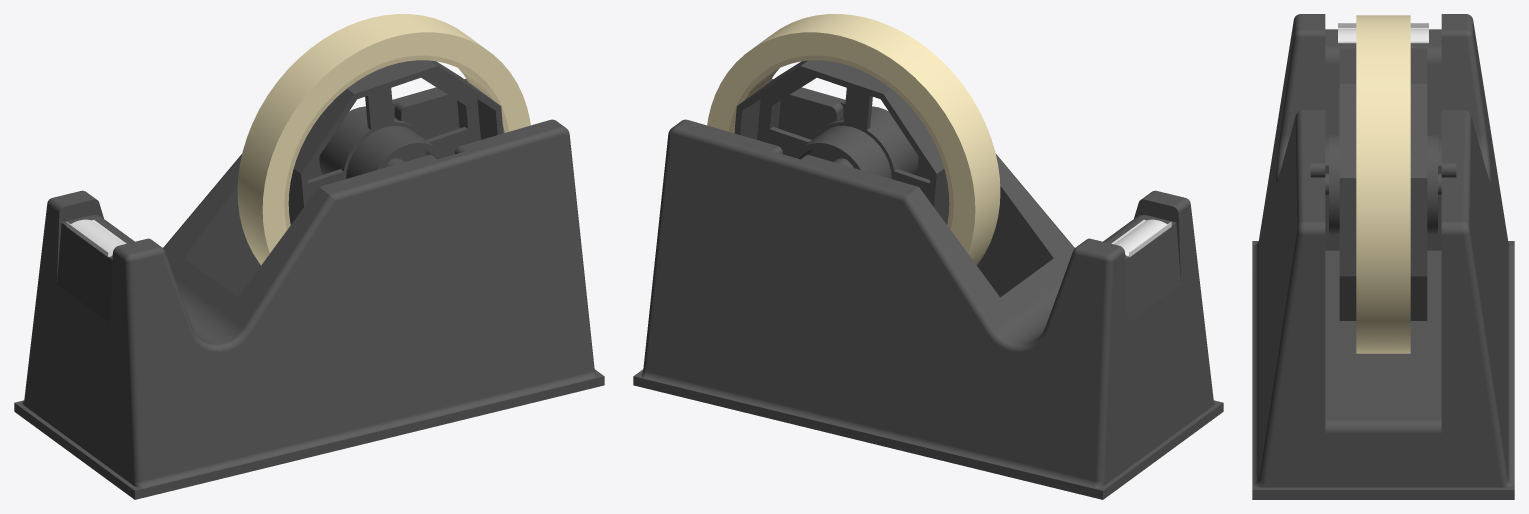
The model's file is 218_セロテープテープカッター.glb.
The picture shows the model from 3 angles, left to right: view 1: azimuth 30°, elevation 25°; view 2: azimuth 150°, elevation 25°; view 3: azimuth 270°, elevation 25°; orthographic projection. The views are drawn at different scales.
Parts seen in each view (by area): view 1: body, セロテープ, スピナー; view 2: body, セロテープ, スピナー; view 3: body, セロテープ, スピナー.
Boxes of the visible parts, x1,y1,x2,y2 form: body: (14, 79, 604, 499); セロテープ: (237, 14, 530, 265); スピナー: (288, 60, 503, 224); body: (633, 79, 1223, 499); セロテープ: (707, 14, 1000, 265); スピナー: (734, 60, 949, 224); body: (1252, 14, 1514, 499); セロテープ: (1356, 15, 1410, 353); スピナー: (1325, 48, 1441, 320).
Size of the model in its own units: 0.162 by 0.1165 by 0.072.
